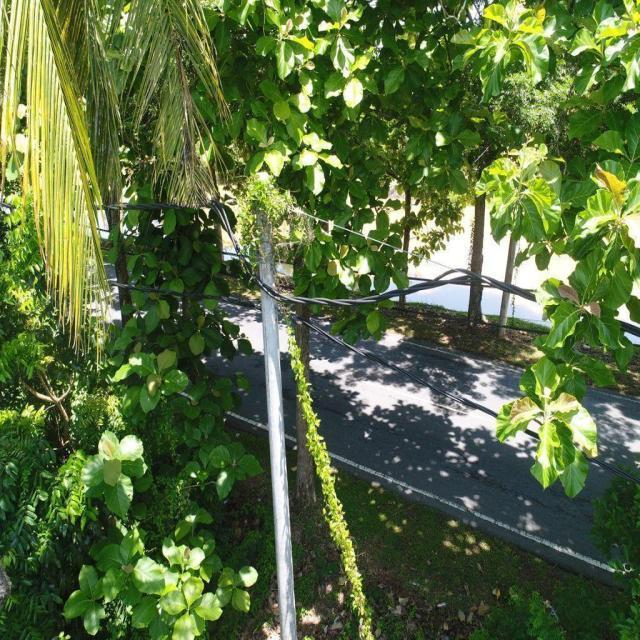critical vegetation: (228, 155, 373, 632)
